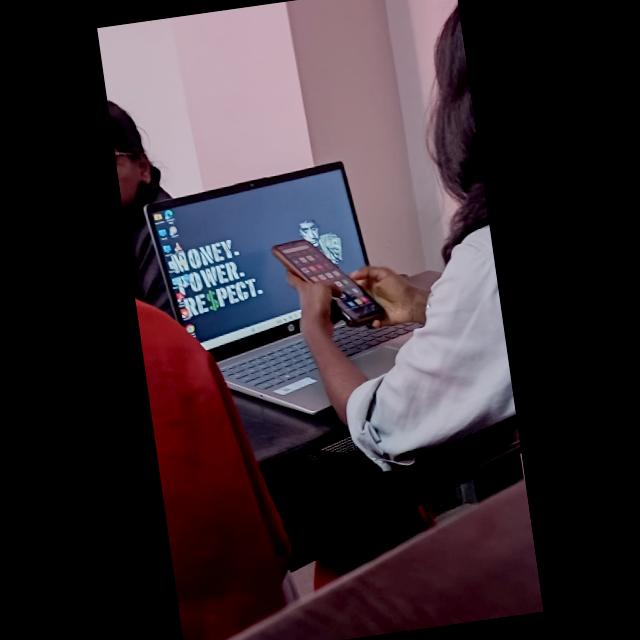laptop: (147, 170, 299, 414)
